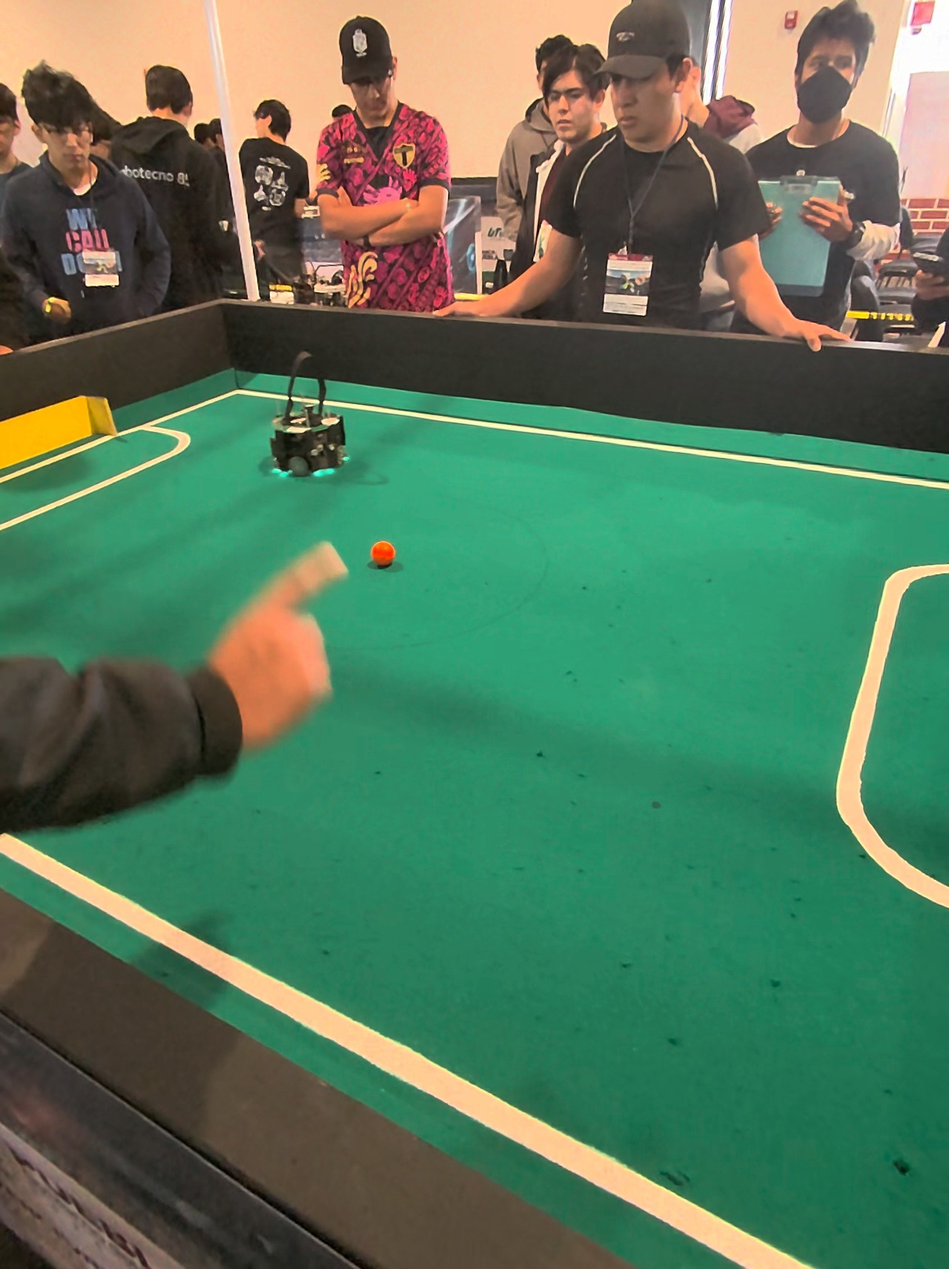Robot: (265, 350, 356, 488)
pelota: (369, 543, 395, 569)
